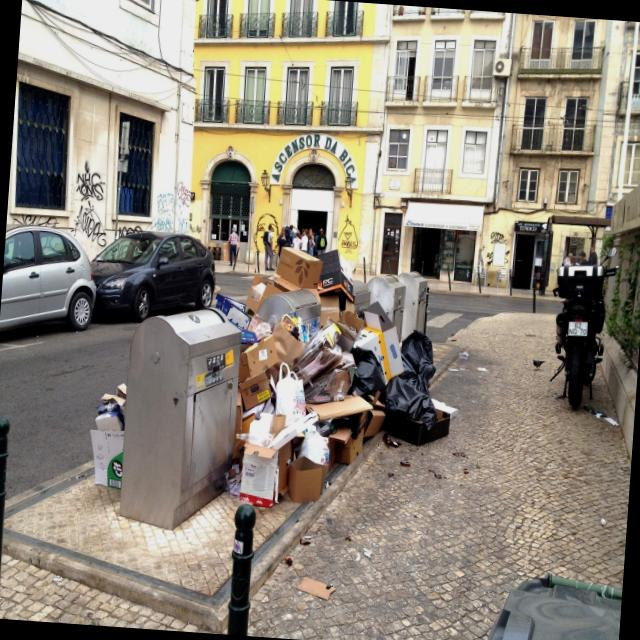garbage: (64, 231, 478, 527)
